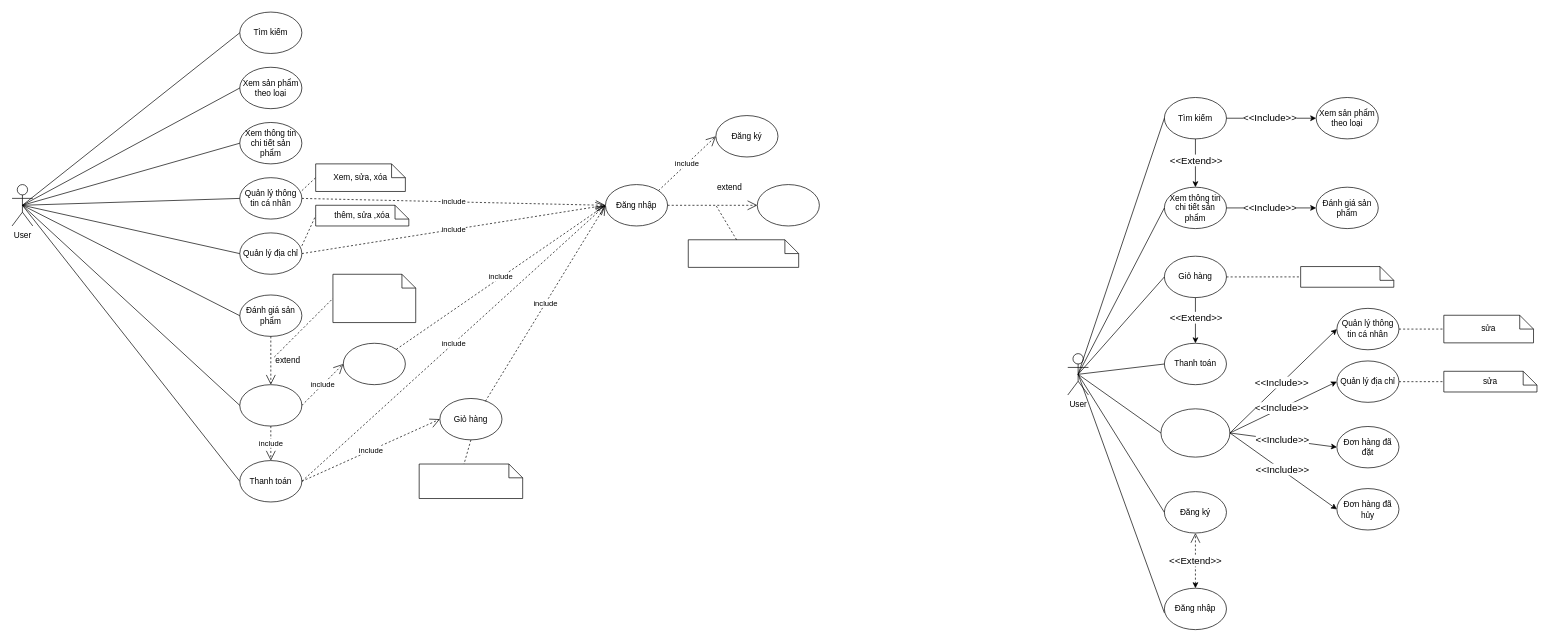
The diagram is 1549 pixels wide and 642 high, and some of its shapes have lost their labels. Each missing label, with the centre of its shape:
"Khi quên mật khẩu" belongs at pixel 743 253.
"Lịch sử đơn hàng" belongs at pixel 374 364.
"Quên mật khẩu" belongs at pixel 788 205.
"Quản lý mua hàng" belongs at pixel 270 405.
"sửa ,xóa" belongs at pixel 1347 276.
"Trang tài khoản người dùng" belongs at pixel 1195 432.
"Xem, thêm, sửa ,xóa" belongs at pixel 470 481.
"Đánh giá sau khi nhận sản phẩm" belongs at pixel 374 298.
